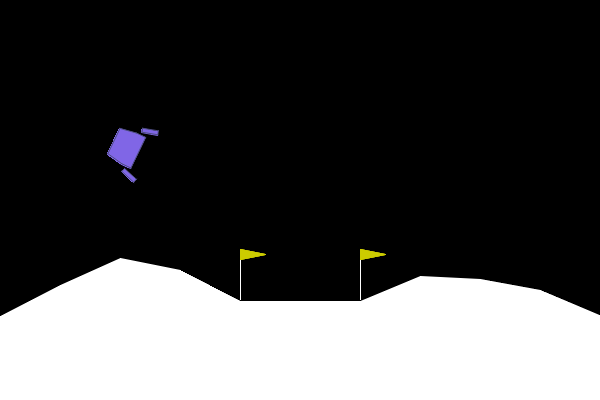lander: (98, 114, 161, 185)
